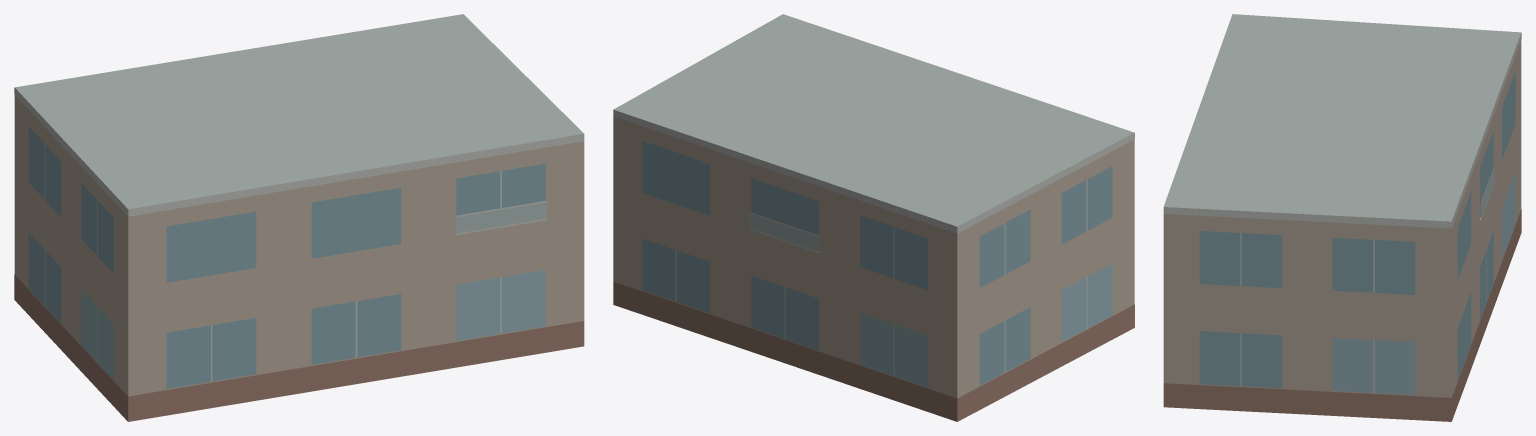
File: survey-upis-32631948.glb
3 views of the same model, side by side, from view 1: azimuth 30°, elevation 25°; view 2: azimuth 150°, elevation 25°; view 3: azimuth 270°, elevation 25° (orthographic). The views are drawn at different scales.
Parts seen in each view (by area): view 1: survey-upis-32631948.tmp; view 2: survey-upis-32631948.tmp; view 3: survey-upis-32631948.tmp.
Boxes of the visible parts, box(x1,y1,x2,y2) form: survey-upis-32631948.tmp: box(14, 14, 584, 421); survey-upis-32631948.tmp: box(613, 14, 1134, 421); survey-upis-32631948.tmp: box(1163, 14, 1521, 421).
Size of the model in its own units: 15.58 by 7 by 11.35.
